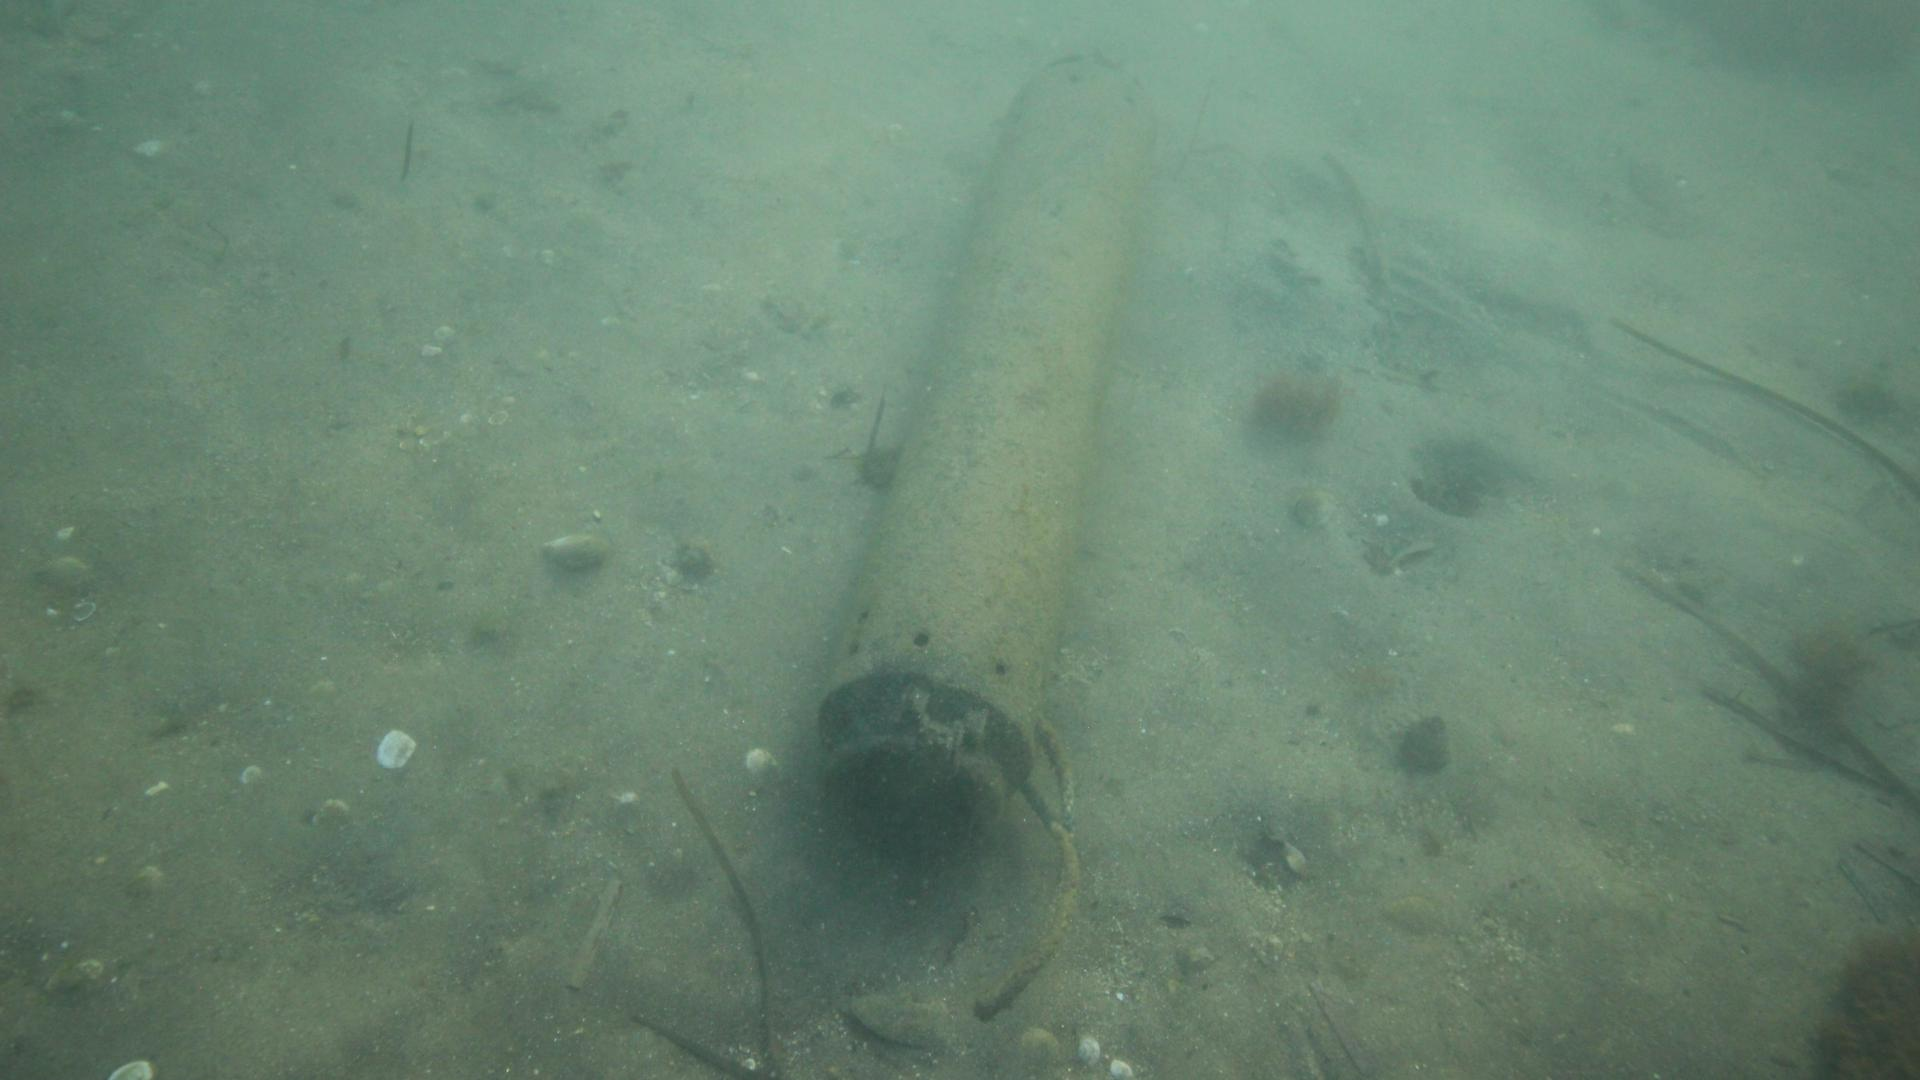eel fish trap: (808, 50, 1159, 839)
rope: (971, 712, 1073, 1018)
